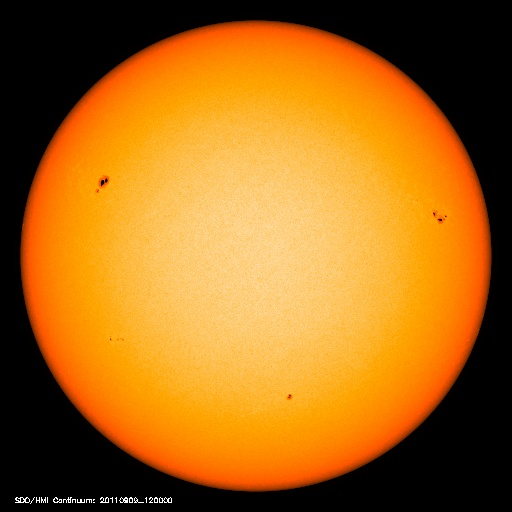sunspot: (85, 168, 120, 199), (423, 203, 457, 232), (274, 382, 306, 412), (99, 329, 137, 348)
